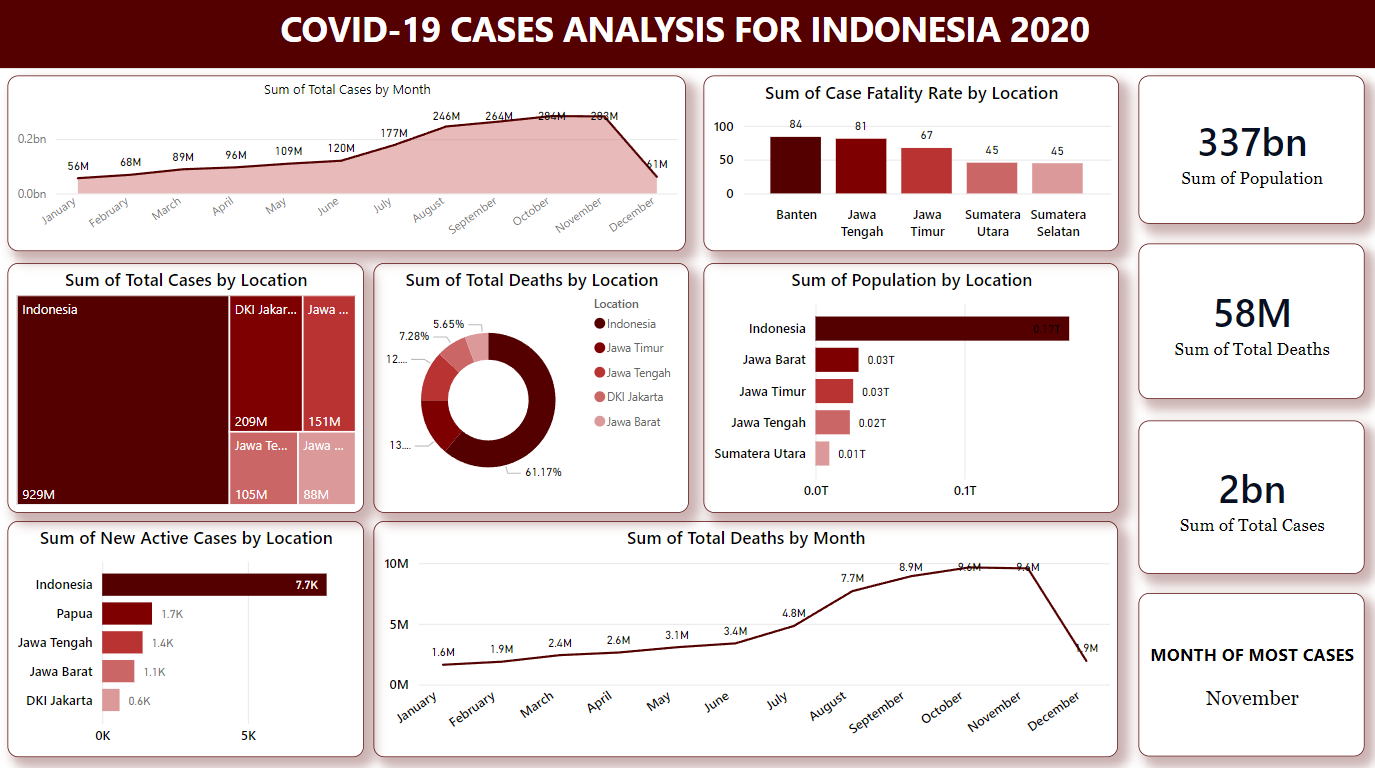

The page's visual inventory and layout, read from the dashboard file:
{"tool":"powerbi","page":{"name":"Page 1","canvas":[1280,720],"ordinal":0},"visuals":[{"type":"textbox","box":[0,0,1279.7,64.1],"z":0},{"type":"areaChart","fields":{"Category":["Data_COVID19_Indonesia.Date.Variation.Date Hierarchy.Month"],"Y":["Sum(Data_COVID19_Indonesia.Total Cases)"]},"box":[12.5,70.3,628.1,162.5],"z":1000},{"type":"treemap","fields":{"Group":["Data_COVID19_Indonesia.Location"],"Values":["Sum(Data_COVID19_Indonesia.Total Cases)"]},"box":[12.5,243.8,329.7,231.2],"z":2000},{"type":"clusteredColumnChart","fields":{"Y":["Sum(Data_COVID19_Indonesia.Case Fatality Rate)"],"Category":["Data_COVID19_Indonesia.Location"]},"box":[656.2,70.3,384.4,162.5],"z":3000},{"type":"donutChart","fields":{"Category":["Data_COVID19_Indonesia.Location"],"Y":["Sum(Data_COVID19_Indonesia.Total Deaths)"]},"box":[351.6,243.8,292.2,231.2],"z":4000},{"type":"clusteredBarChart","fields":{"Category":["Data_COVID19_Indonesia.Location"],"Y":["Sum(Data_COVID19_Indonesia.Population)"]},"box":[656.2,243.8,384.4,231.2],"z":5000},{"type":"clusteredBarChart","fields":{"Category":["Data_COVID19_Indonesia.Location"],"Y":["Sum(Data_COVID19_Indonesia.New Active Cases)"]},"box":[12.5,482.8,329.7,218.8],"z":6000},{"type":"lineChart","fields":{"Category":["Data_COVID19_Indonesia.Date.Variation.Date Hierarchy.Month"],"Y":["Sum(Data_COVID19_Indonesia.Total Deaths)"]},"box":[351.6,482.8,689.1,218.8],"z":7000},{"type":"card","fields":{"Values":["Sum(Data_COVID19_Indonesia.Population)"]},"box":[1059.4,70.3,209.4,137.5],"z":7001},{"type":"card","fields":{"Values":["Sum(Data_COVID19_Indonesia.Total Deaths)"]},"box":[1059.4,226.6,209.4,143.8],"z":7002},{"type":"card","fields":{"Values":["Sum(Data_COVID19_Indonesia.Total Cases)"]},"box":[1059.4,390.6,209.4,142.2],"z":7003},{"type":"textbox","box":[1059.4,550,209.4,151.6],"z":7004}]}

Visuals, with their boxes in screenshot pixels (x1, y1, x2, y2), scaled from the page's 1280x720 canvas onto the 1375x768 screenshot:
textbox: BBox(0, 0, 1374, 68)
areaChart - Data_COVID19_Indonesia.Date.Variation.Date Hierarchy.Month x Sum(Data_COVID19_Indonesia.Total Cases): BBox(13, 75, 688, 248)
treemap - Data_COVID19_Indonesia.Location x Sum(Data_COVID19_Indonesia.Total Cases): BBox(13, 260, 368, 507)
clusteredColumnChart - Sum(Data_COVID19_Indonesia.Case Fatality Rate) x Data_COVID19_Indonesia.Location: BBox(705, 75, 1118, 248)
donutChart - Data_COVID19_Indonesia.Location x Sum(Data_COVID19_Indonesia.Total Deaths): BBox(378, 260, 692, 507)
clusteredBarChart - Data_COVID19_Indonesia.Location x Sum(Data_COVID19_Indonesia.Population): BBox(705, 260, 1118, 507)
clusteredBarChart - Data_COVID19_Indonesia.Location x Sum(Data_COVID19_Indonesia.New Active Cases): BBox(13, 515, 368, 748)
lineChart - Data_COVID19_Indonesia.Date.Variation.Date Hierarchy.Month x Sum(Data_COVID19_Indonesia.Total Deaths): BBox(378, 515, 1118, 748)
card - Sum(Data_COVID19_Indonesia.Population): BBox(1138, 75, 1363, 222)
card - Sum(Data_COVID19_Indonesia.Total Deaths): BBox(1138, 242, 1363, 395)
card - Sum(Data_COVID19_Indonesia.Total Cases): BBox(1138, 417, 1363, 568)
textbox: BBox(1138, 587, 1363, 748)
